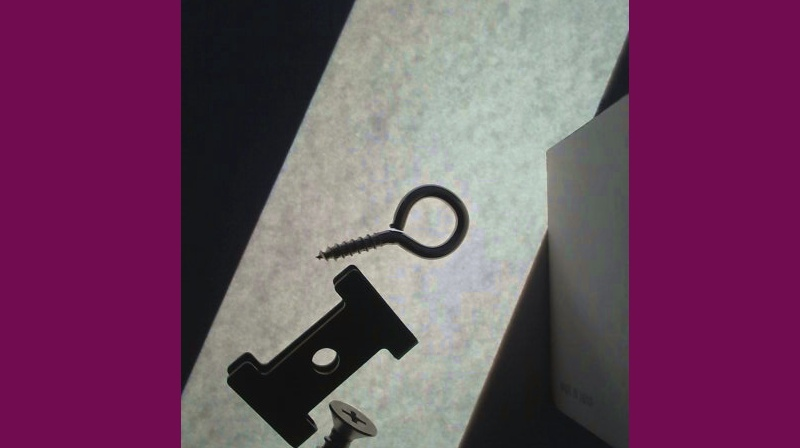O001: (312, 181, 470, 263)
O002: (226, 261, 419, 447)
S001: (260, 400, 376, 447)
